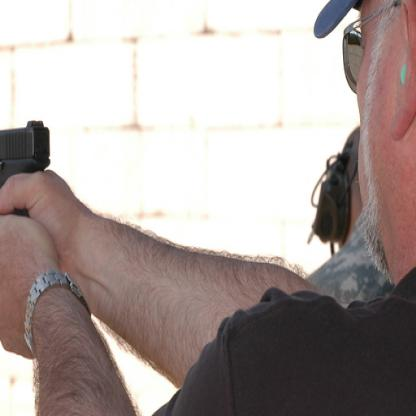gun: (0, 114, 53, 226)
